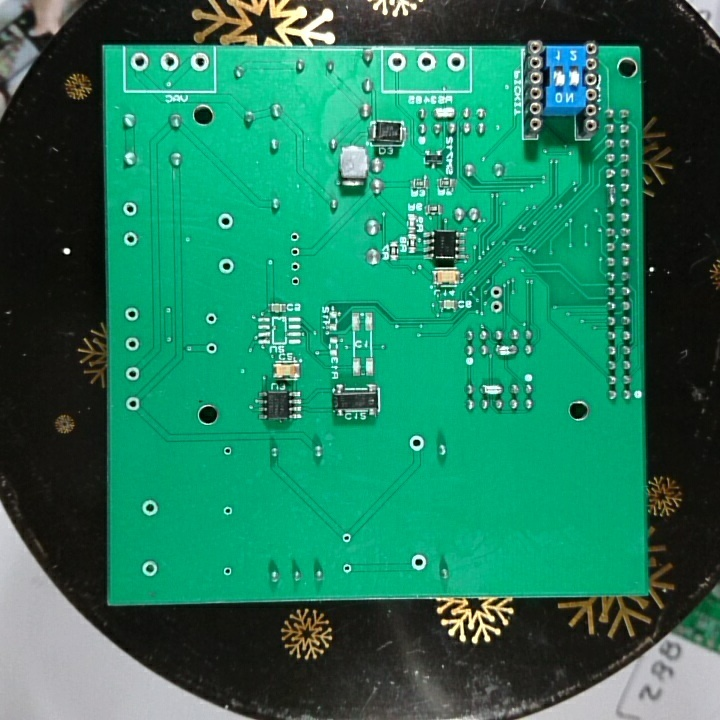F: (188, 50, 211, 76), (127, 51, 153, 74), (157, 51, 181, 75), (386, 49, 409, 74), (414, 51, 439, 73), (139, 495, 161, 520), (406, 432, 428, 455), (215, 209, 237, 232), (140, 556, 161, 580), (445, 51, 467, 73), (408, 552, 429, 574), (216, 255, 237, 277), (120, 229, 140, 249), (122, 364, 142, 384), (119, 200, 139, 218), (123, 304, 141, 324), (123, 335, 142, 353), (124, 395, 142, 414), (202, 308, 219, 327), (204, 339, 220, 358), (488, 283, 505, 299), (288, 272, 305, 288), (220, 502, 236, 518), (489, 299, 505, 315), (339, 529, 354, 546), (339, 559, 354, 575), (288, 243, 303, 259), (221, 442, 234, 460), (288, 229, 303, 244), (221, 564, 235, 580), (288, 258, 302, 272)
P: (431, 104, 458, 122), (479, 381, 505, 397), (603, 181, 617, 210), (494, 342, 519, 358)
